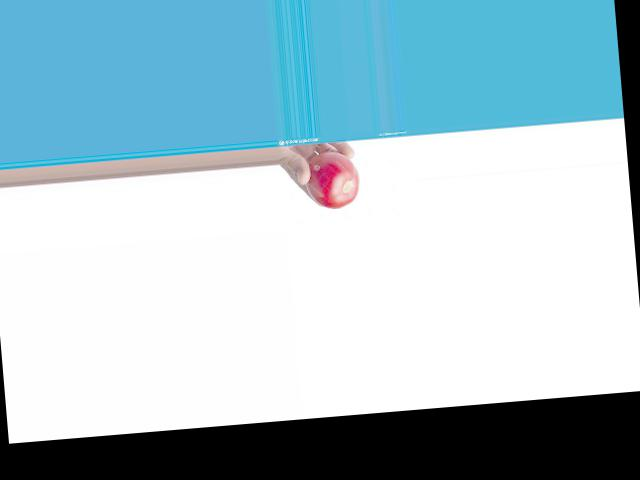tomato: (303, 149, 361, 210)
